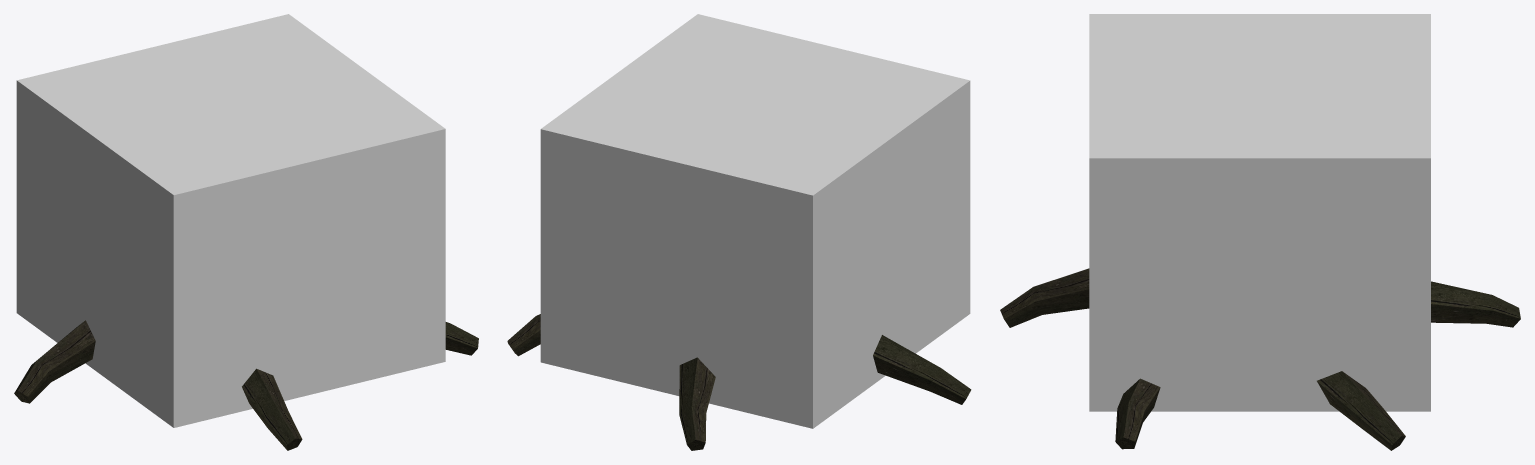
The model's file is rotten_stump_closed.glb.
3 renders of one model, left to right at view 1: azimuth 30°, elevation 25°; view 2: azimuth 150°, elevation 25°; view 3: azimuth 270°, elevation 25°, orthographic. The views are drawn at different scales.
Parts seen in each view (by area): view 1: col_click, rotten_stump_closed; view 2: col_click, rotten_stump_closed; view 3: col_click, rotten_stump_closed.
Boxes of the visible parts, x1=… form: col_click: x1=16, y1=14, x2=445, y2=427; rotten_stump_closed: x1=14, y1=320, x2=478, y2=450; col_click: x1=540, y1=14, x2=970, y2=428; rotten_stump_closed: x1=507, y1=314, x2=971, y2=450; col_click: x1=1089, y1=14, x2=1430, y2=411; rotten_stump_closed: x1=1000, y1=268, x2=1520, y2=450.
Bounding box in the file's own units: 1.62 × 0.9571 × 1.68.
Materials: 4 (4 with a texture image).
